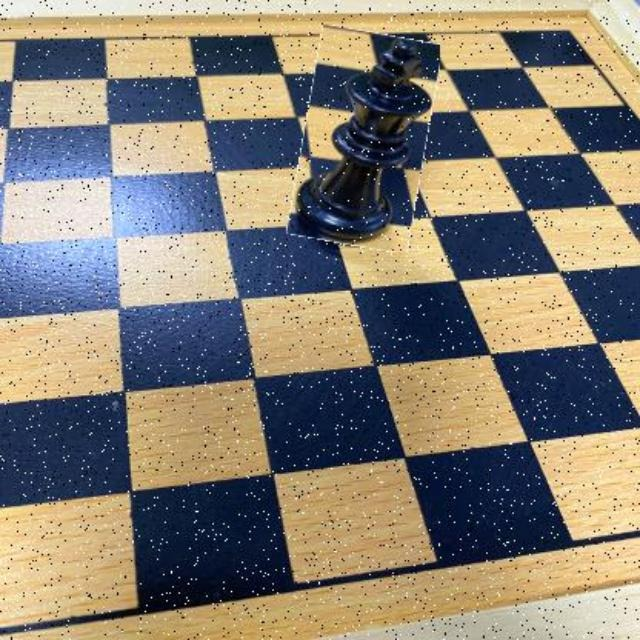black-king: (295, 29, 433, 250)
